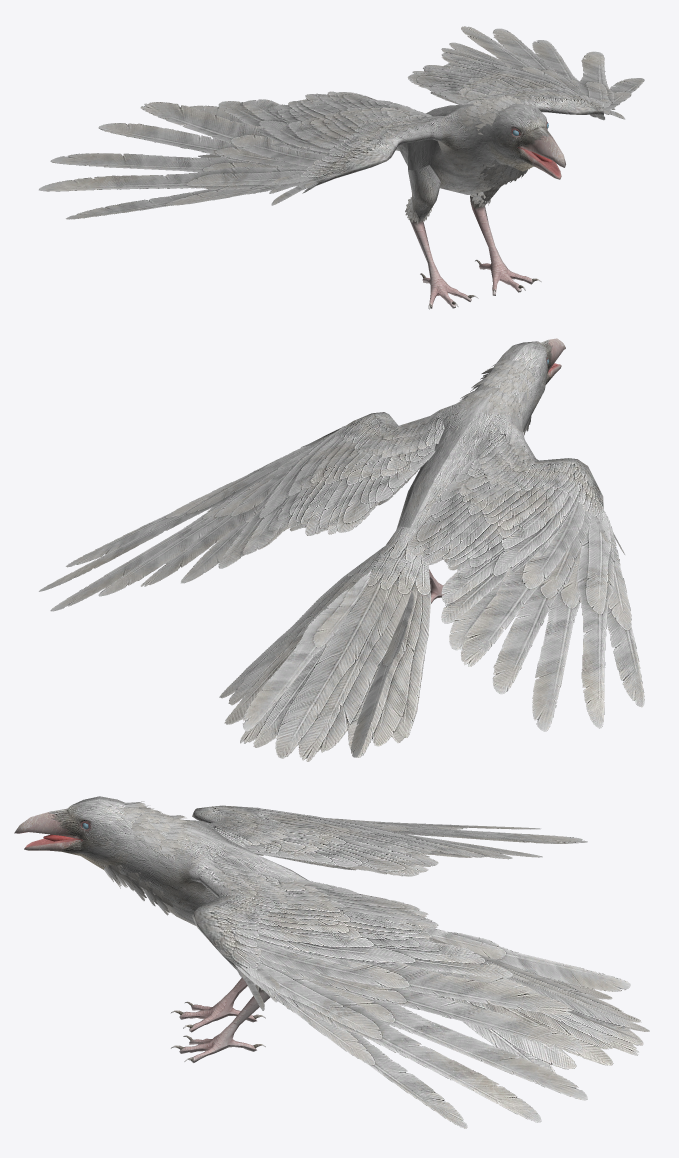
File: crow.fbx
3 renders of one model, top to bottom at view 1: azimuth 30°, elevation 25°; view 2: azimuth 150°, elevation 25°; view 3: azimuth 270°, elevation 25°, orthographic. The views are drawn at different scales.
Parts seen in each view (by area): view 1: meshU3D; view 2: meshU3D; view 3: meshU3D.
Boxes of the visible parts, <box> form: meshU3D: <box>39,26,644,309</box>; meshU3D: <box>39,338,644,761</box>; meshU3D: <box>14,796,649,1128</box>.
Bounding box in the file's own units: 75.83 × 27.69 × 64.83.
1 material, 1 textured.
